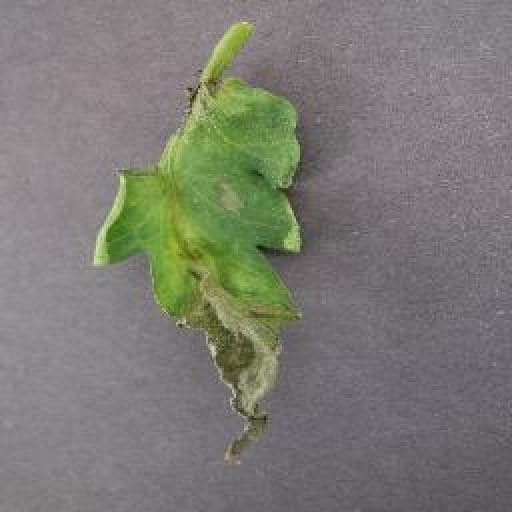Late Blight: (90, 73, 302, 467)
